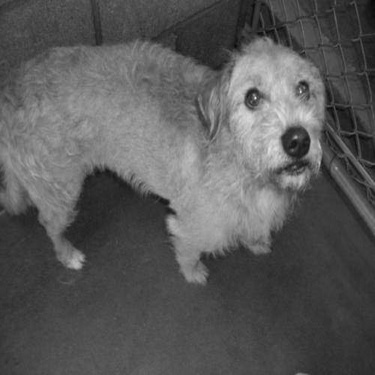dog: (1, 31, 338, 284)
